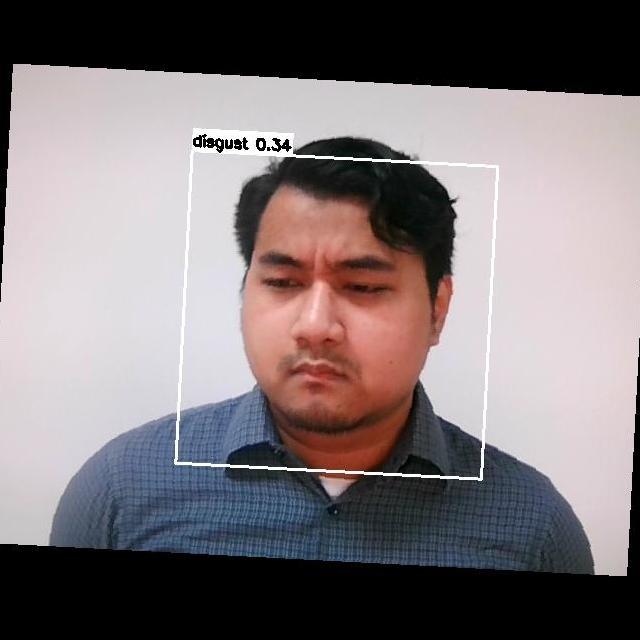Angry: (241, 223, 421, 405)
